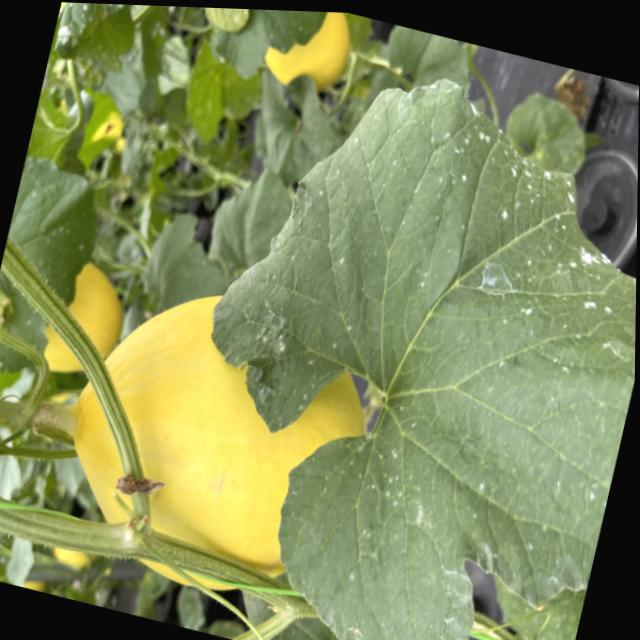powdery mildew: (146, 45, 639, 640)
